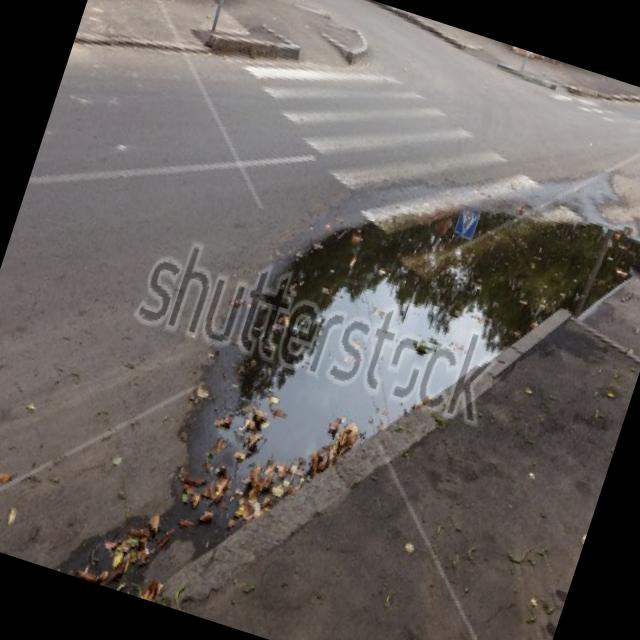Potholes: (63, 66, 640, 640)
